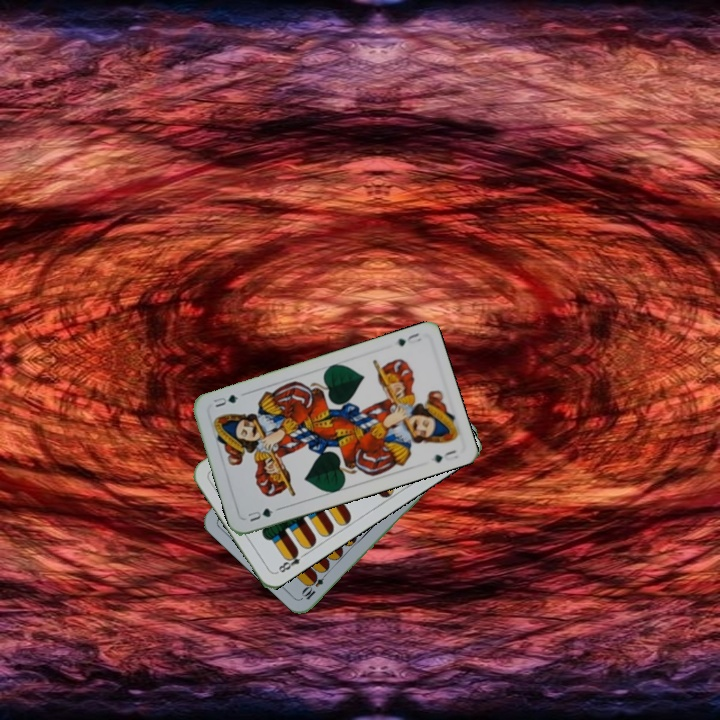E10: (298, 567, 331, 602)
E8: (272, 546, 309, 576)
GU: (243, 504, 276, 524), (392, 329, 424, 349)
